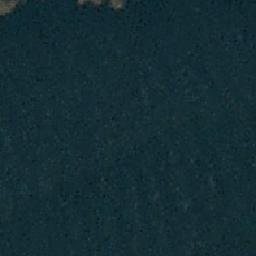debris: (1, 1, 19, 19), (111, 1, 125, 9), (94, 1, 103, 7), (79, 1, 83, 6)
